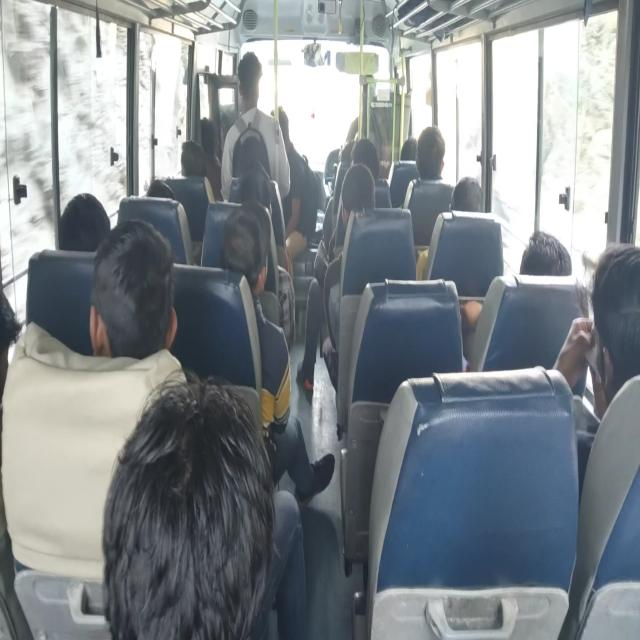person: (100, 368, 306, 638), (220, 207, 335, 508), (296, 163, 376, 393), (552, 241, 639, 424), (459, 230, 572, 368), (89, 217, 178, 359), (220, 51, 290, 202), (270, 105, 319, 259), (416, 176, 484, 280), (401, 125, 454, 248), (58, 192, 110, 252), (0, 283, 22, 404), (519, 230, 572, 276), (178, 140, 216, 202), (199, 116, 223, 200), (449, 176, 484, 212)
